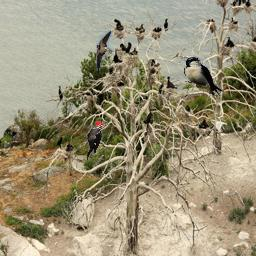Swallow: (184, 57, 224, 96), (96, 31, 119, 71)
Woodpecker: (82, 121, 108, 161)
